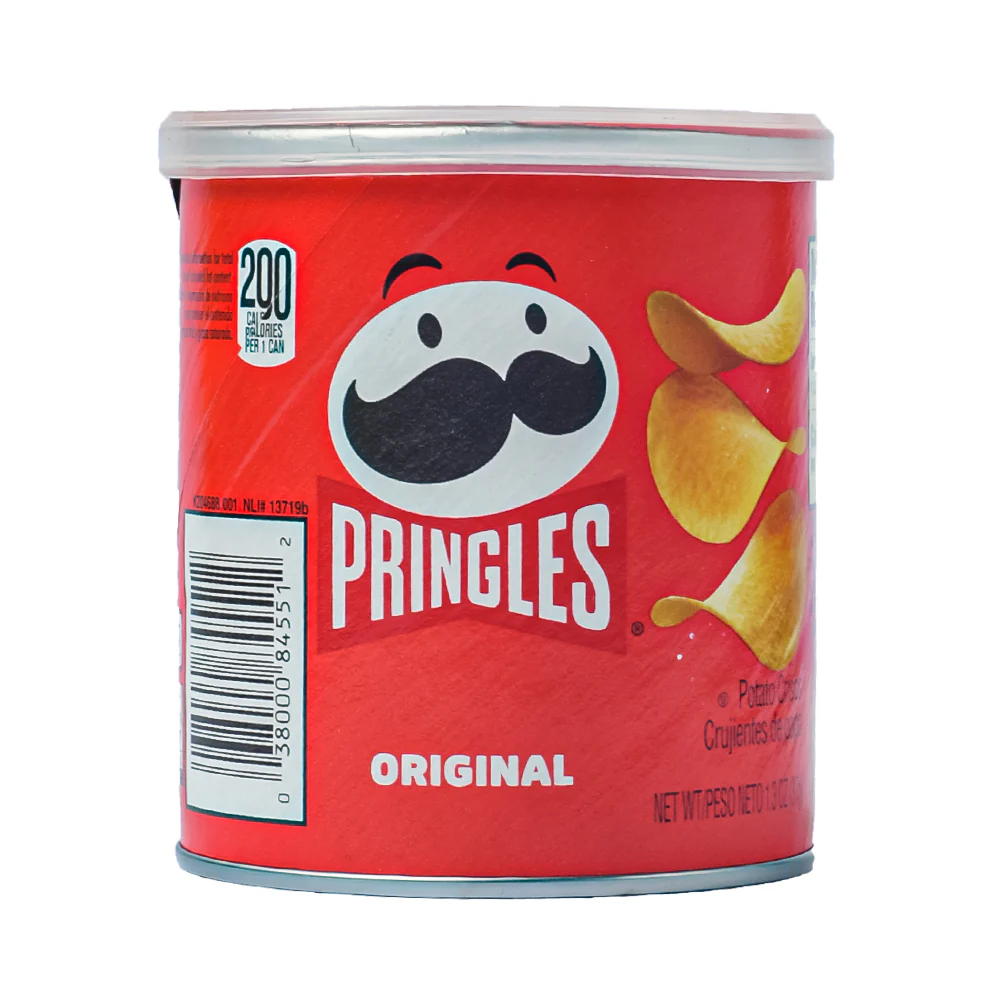non-toxic_waste: (146, 123, 838, 898)
